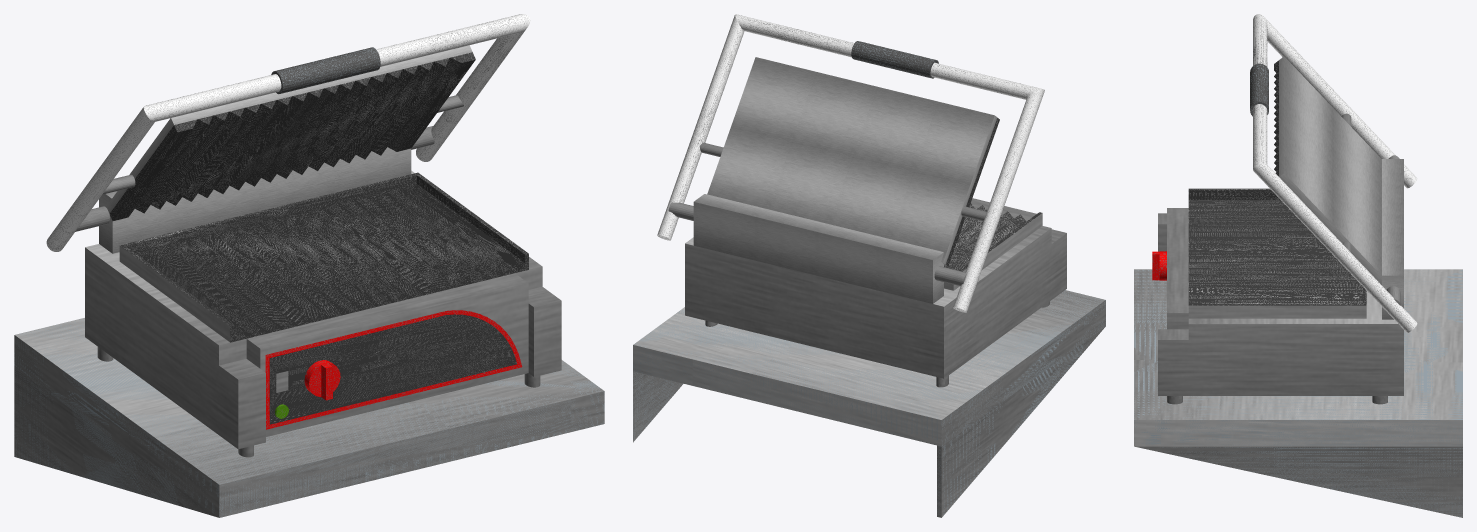
The model's file is toaster.dae.
The picture shows the model from 3 angles, left to right: view 1: azimuth 30°, elevation 25°; view 2: azimuth 150°, elevation 25°; view 3: azimuth 270°, elevation 25°; orthographic projection. The views are drawn at different scales.
Parts seen in each view (by area): view 1: sandwich_toaster (×4), Wall_shelf_-_Panini_Grill, group_13 (×2), group_10, group_4, group_0, group_11, group_14; view 2: group_13 (×3), sandwich_toaster (×2), Wall_shelf_-_Panini_Grill, group_4, group_10, group_0 (×2), group_11; view 3: sandwich_toaster (×2), Wall_shelf_-_Panini_Grill, group_13 (×3), group_0, group_10, group_4, group_11, group_14.
Part boxes in pixels (x1,y1,x2,y2): sandwich_toaster (×4): [85, 170, 561, 449]; Wall_shelf_-_Panini_Grill: [14, 318, 604, 517]; group_13 (×2): [106, 45, 475, 220]; group_10: [46, 14, 530, 251]; group_4: [99, 147, 411, 253]; group_0: [14, 368, 218, 517]; group_11: [271, 47, 380, 94]; group_14: [304, 360, 340, 400]; group_13 (×3): [707, 57, 999, 266]; sandwich_toaster (×2): [685, 198, 1066, 378]; Wall_shelf_-_Panini_Grill: [633, 290, 1105, 446]; group_4: [693, 194, 943, 303]; group_10: [657, 14, 1044, 312]; group_0 (×2): [633, 326, 1105, 517]; group_11: [851, 41, 938, 78]; sandwich_toaster (×2): [1158, 188, 1403, 395]; Wall_shelf_-_Panini_Grill: [1134, 269, 1462, 446]; group_13 (×3): [1274, 56, 1381, 284]; group_0: [1135, 446, 1462, 517]; group_10: [1253, 14, 1417, 332]; group_4: [1382, 159, 1403, 319]; group_11: [1250, 63, 1268, 116]; group_14: [1152, 251, 1166, 280].
Bounding box in the file's own units: 19.26 × 17.72 × 21.2.
Materials: 11 (5 with a texture image).
